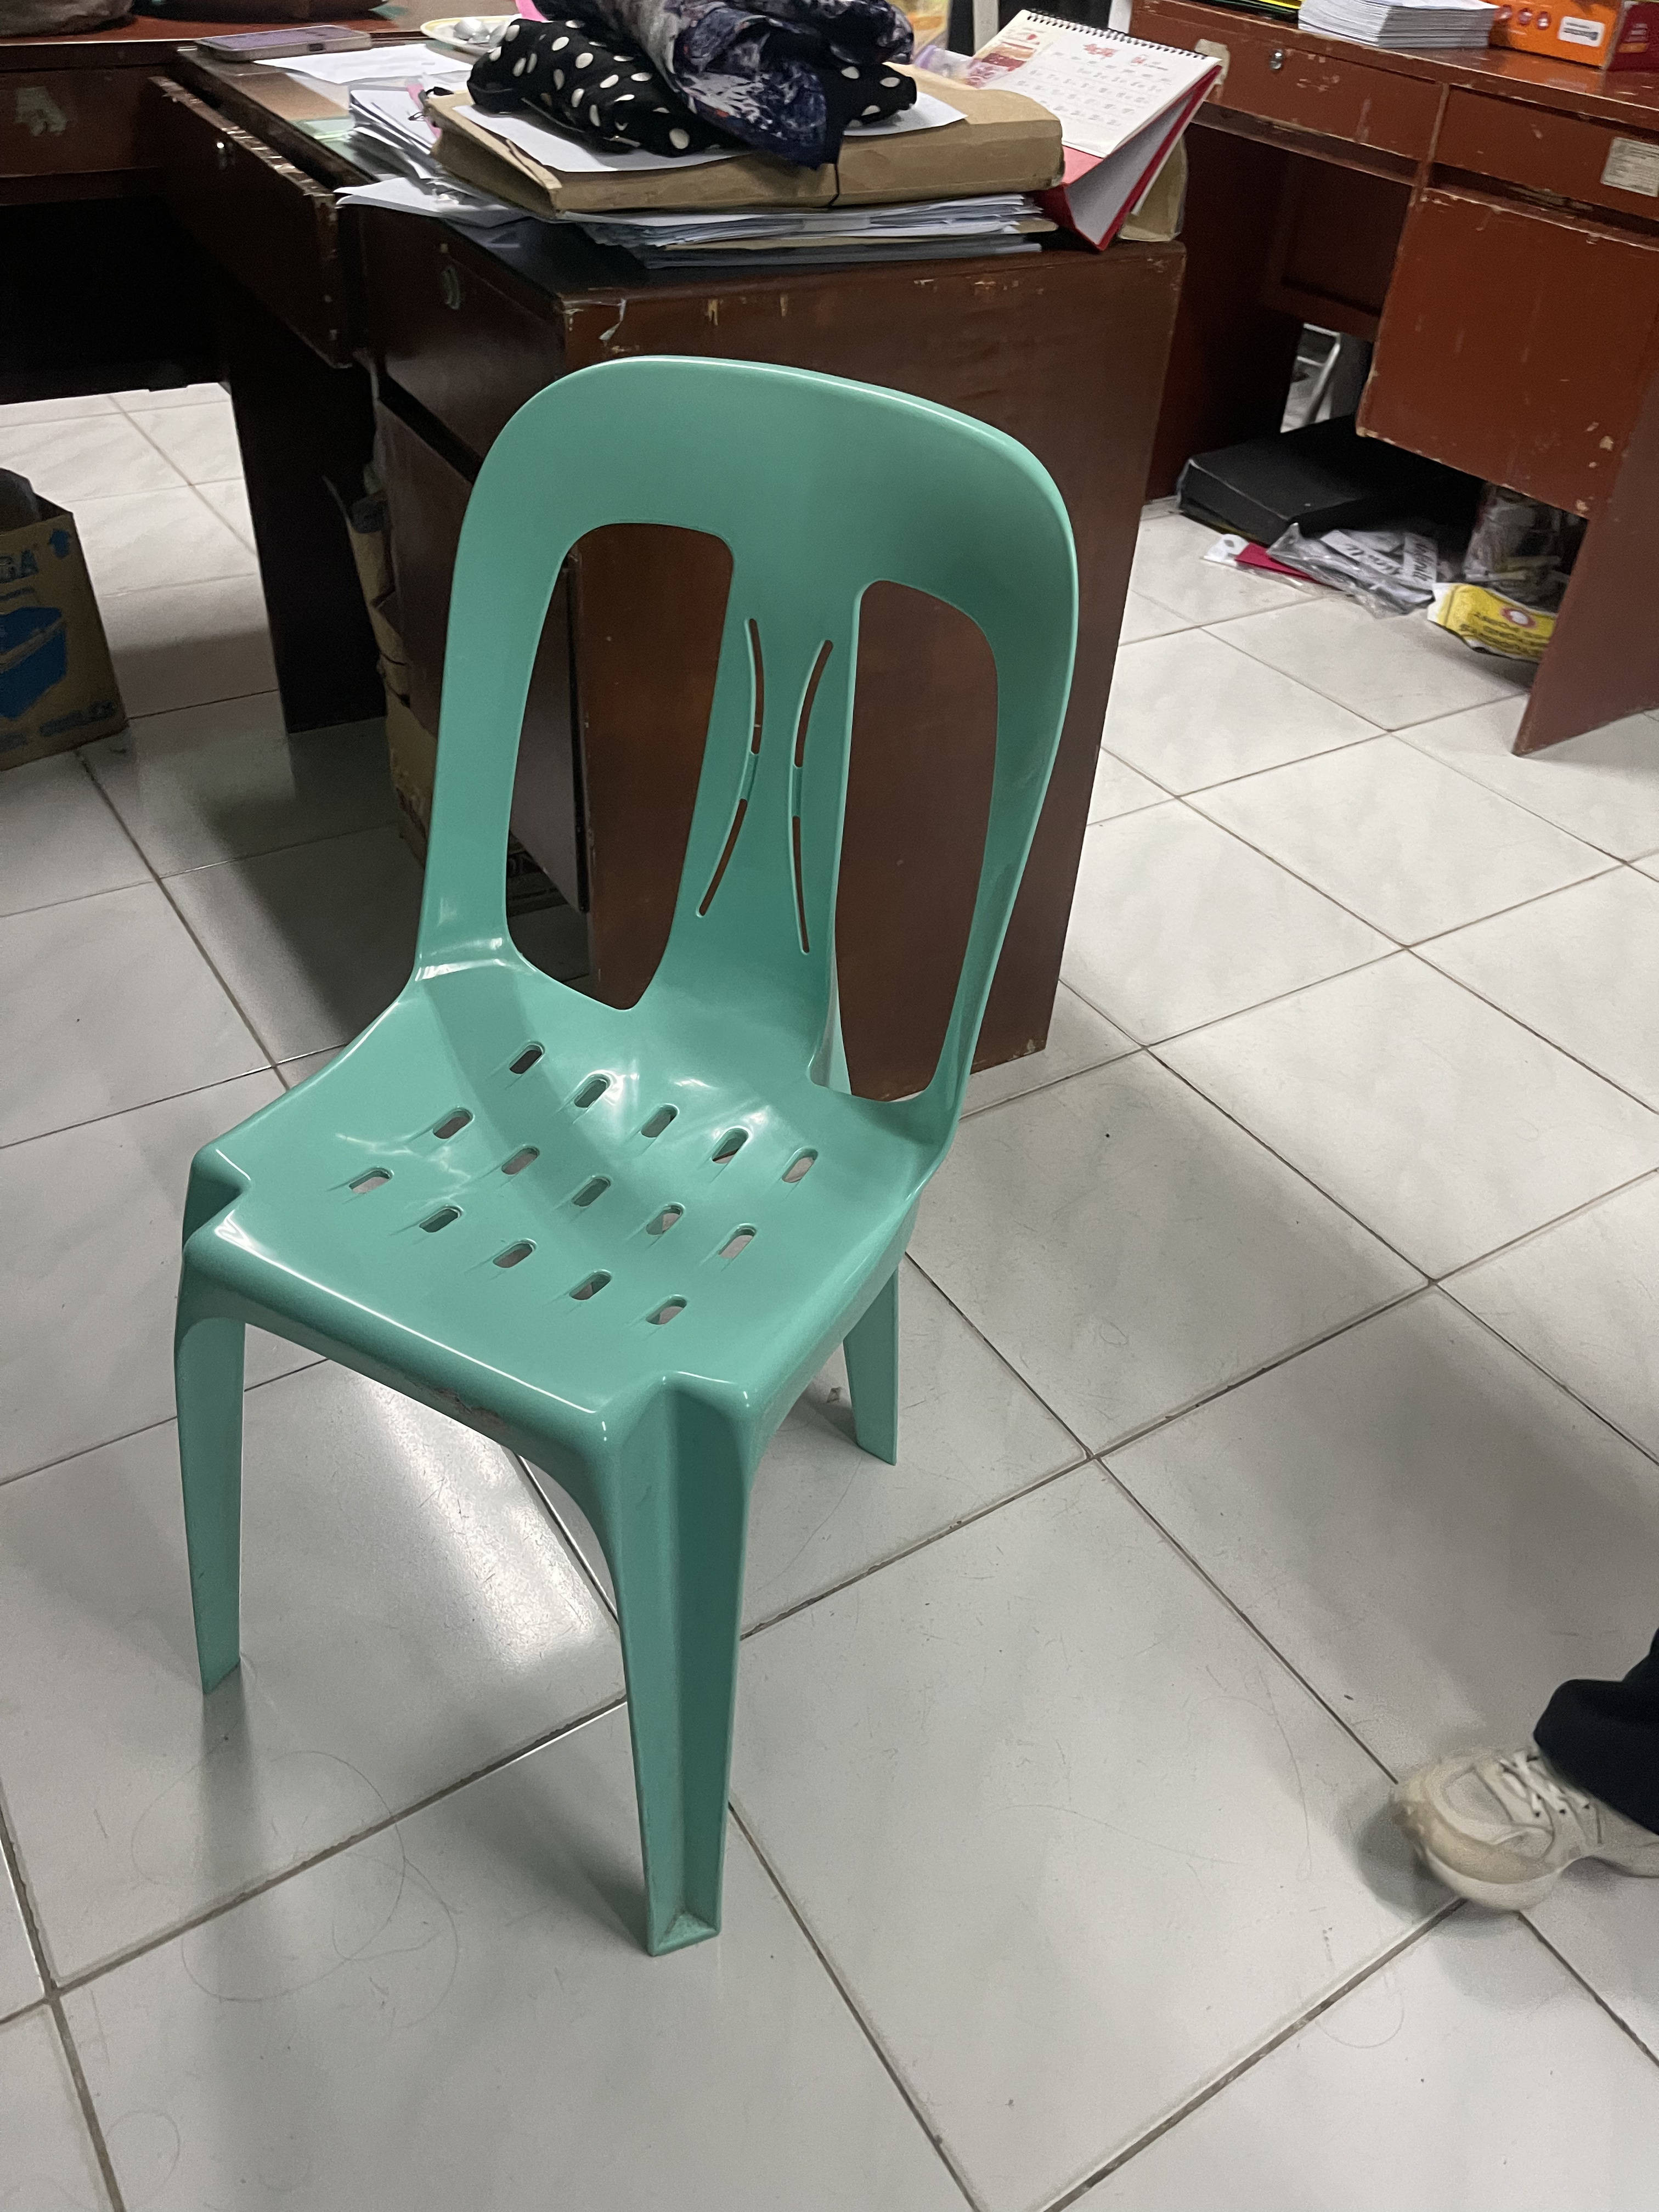chair2: (139, 340, 1103, 1958)
